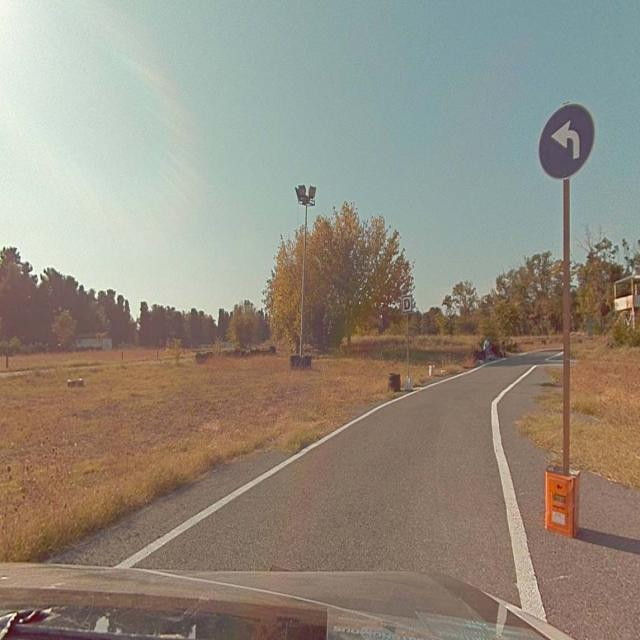durak: (402, 296, 412, 311)
sol: (537, 105, 593, 179)
